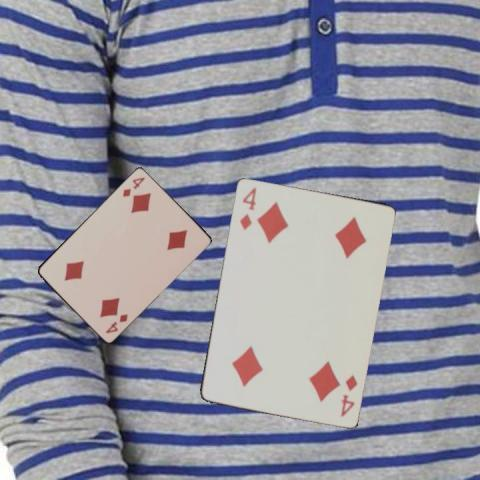4d: (337, 371, 359, 418), (237, 184, 257, 231), (119, 174, 147, 198), (103, 310, 129, 334)
